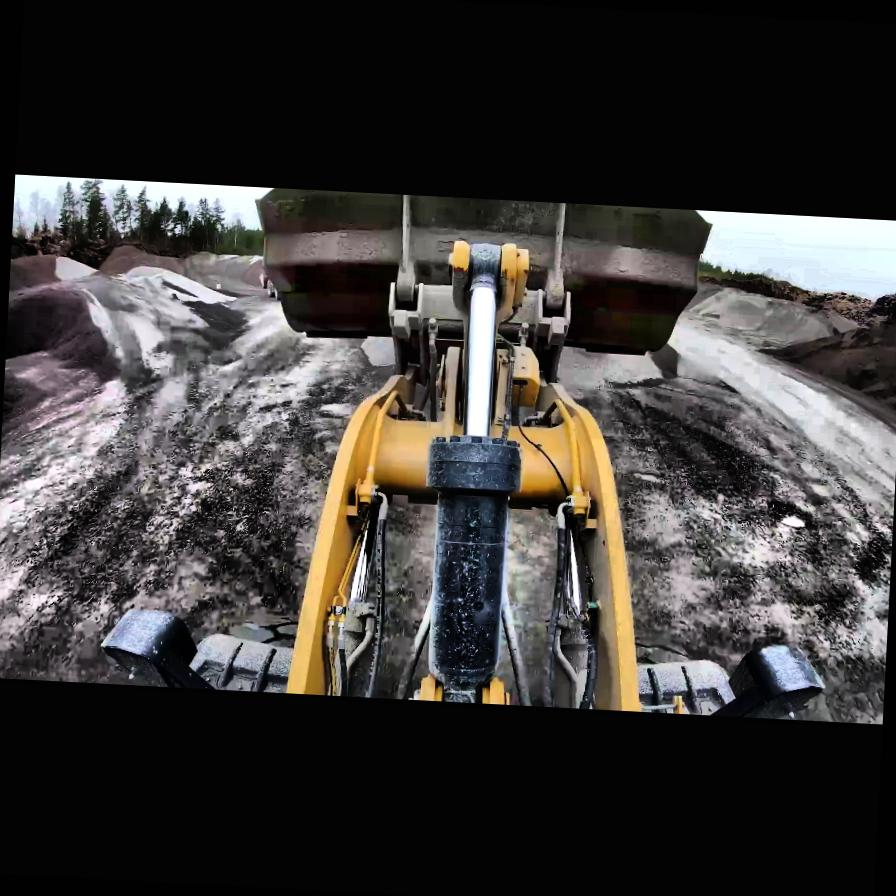anchor: (446, 240, 528, 324)
pile of gravel: (3, 250, 259, 405), (747, 289, 896, 432), (675, 282, 840, 348), (95, 240, 266, 295), (7, 244, 84, 303)
